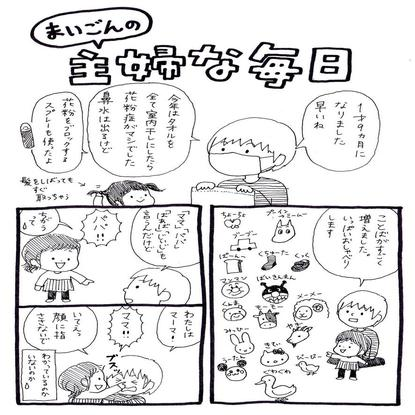bubble: (87, 84, 199, 174), (313, 207, 398, 289), (295, 91, 380, 172), (33, 8, 150, 47), (31, 93, 89, 171), (131, 207, 201, 269), (26, 306, 98, 355), (158, 306, 202, 354), (78, 208, 122, 248), (107, 307, 144, 349), (18, 208, 72, 235)
